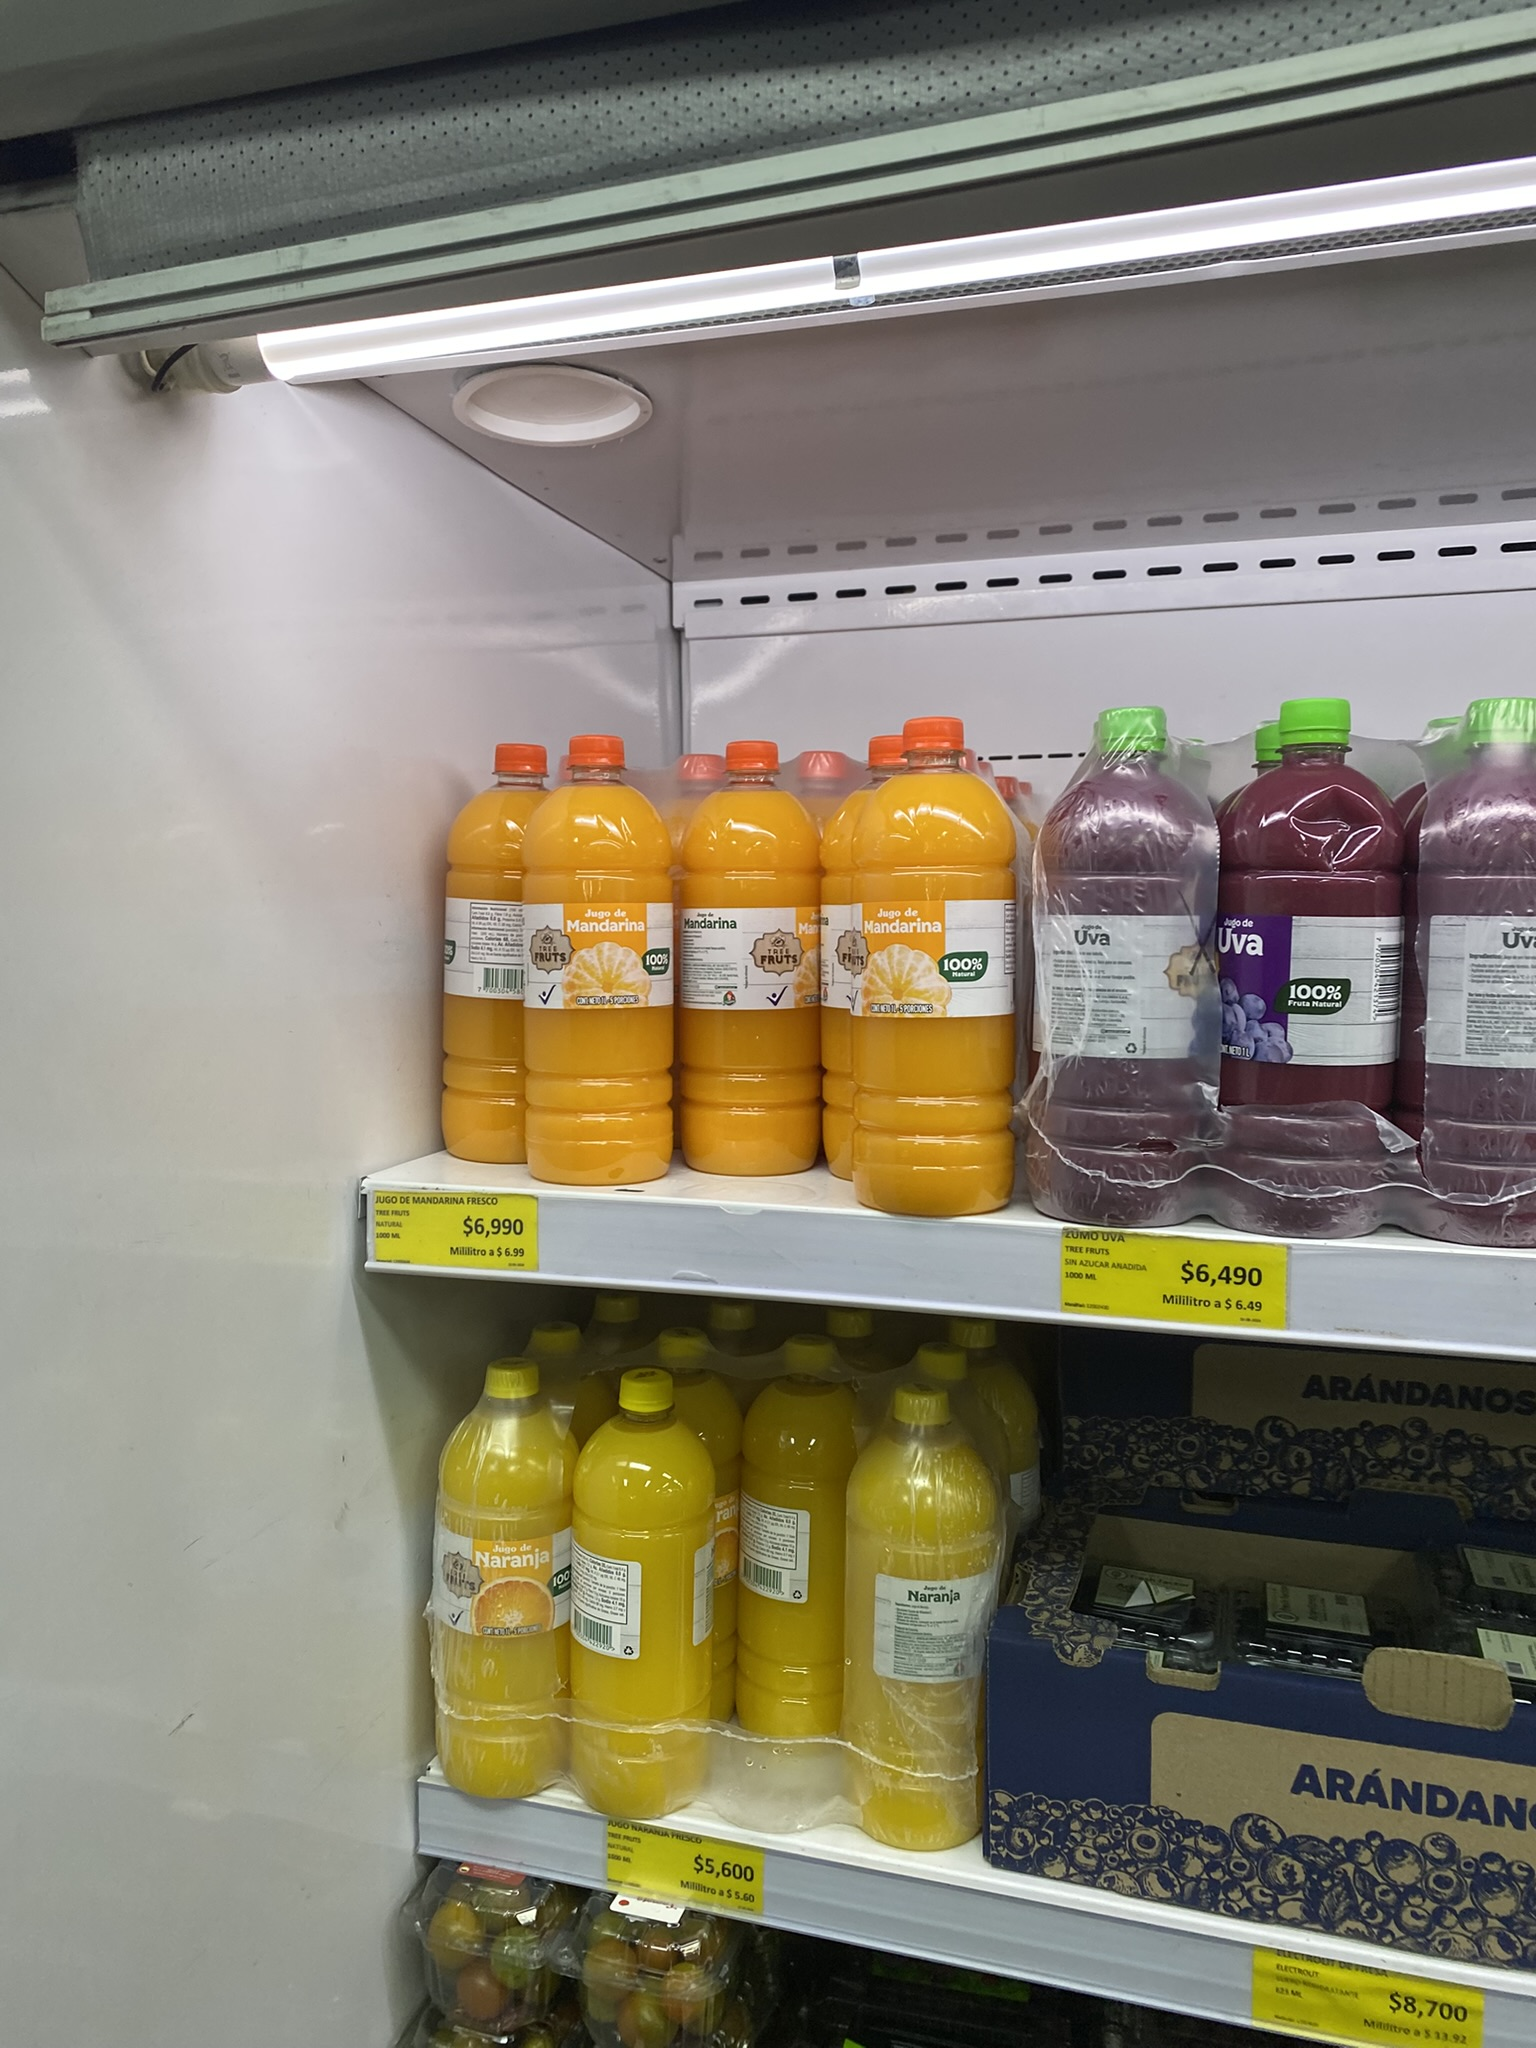Jugo de Mandarina: (850, 718, 1036, 1224), (532, 731, 676, 1184), (686, 742, 826, 1174), (434, 745, 558, 1153)
